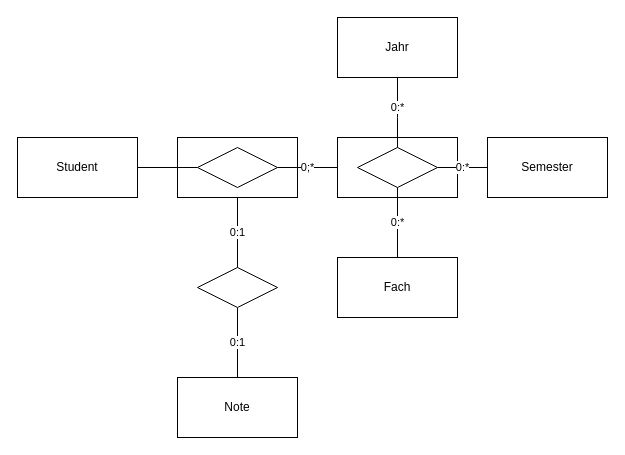
The diagram is 625 pixels wide and 455 high, and some of its shapes have lost their labels. Here are the shapes that lost their labels. From the top down, the box of each, then its label:
(196, 146, 278, 188): Hörer
(356, 146, 438, 188): Vorlesung
